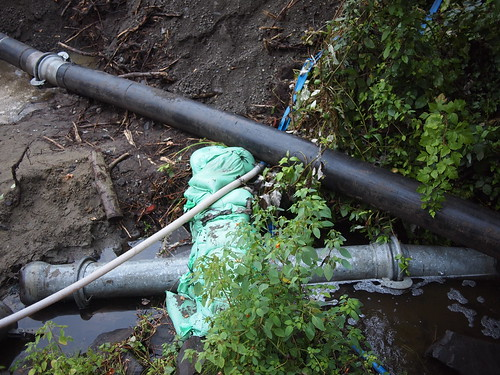trash: (50, 103, 486, 299)
vegetation: (319, 14, 492, 195), (186, 226, 366, 375)
